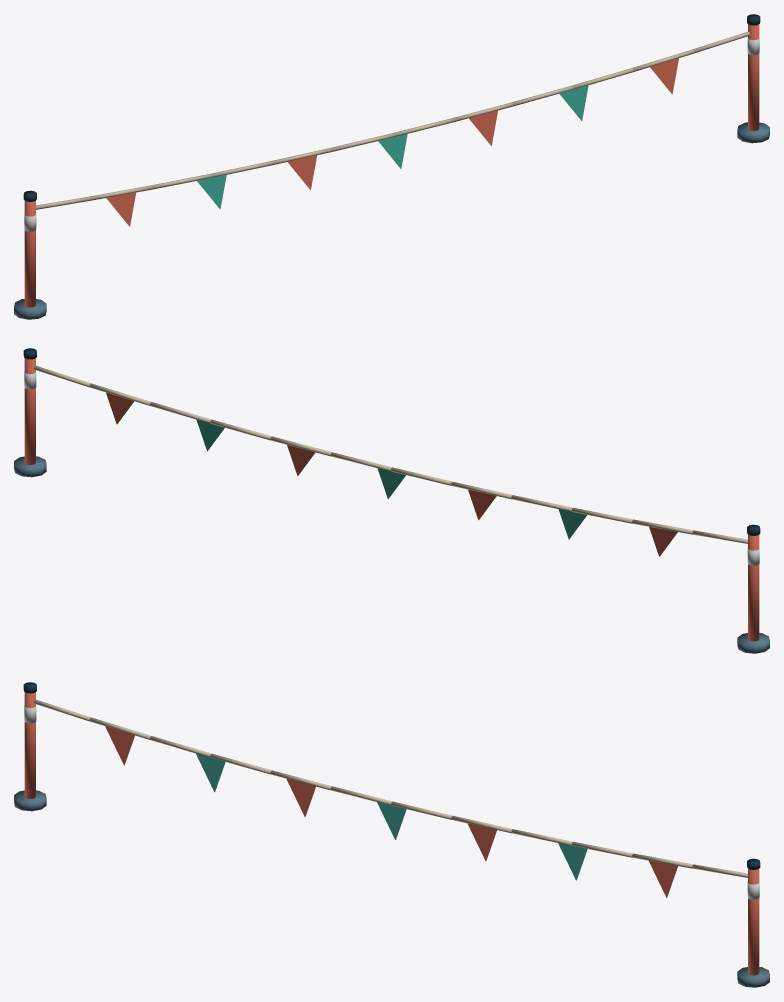
File: flag-rope.glb
3 views of the same model, one above another, from view 1: azimuth 30°, elevation 25°; view 2: azimuth 150°, elevation 25°; view 3: azimuth 330°, elevation 25° (orthographic).
Parts seen in each view (by area): view 1: flag_rope; view 2: flag_rope; view 3: flag_rope.
Part boxes in pixels (bbox=[...]): flag_rope: bbox=[14, 14, 769, 319]; flag_rope: bbox=[14, 348, 769, 653]; flag_rope: bbox=[14, 682, 769, 987].
Bounding box in the file's own units: 8.3 × 1.26 × 0.32.
